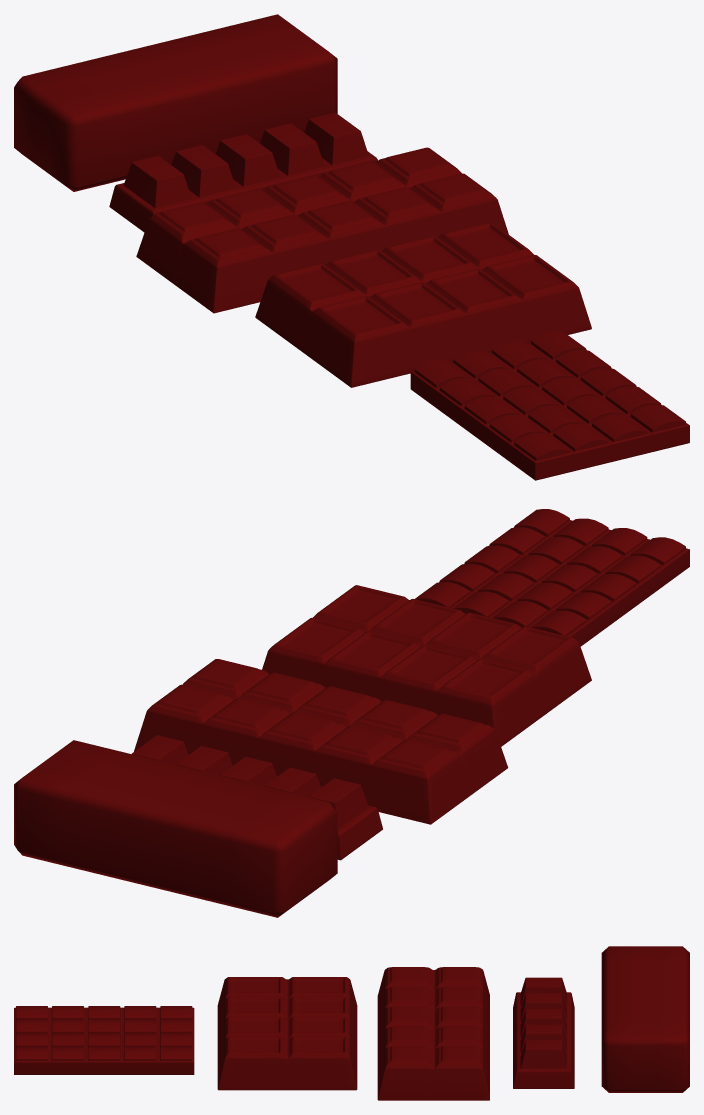
The model's file is nmodel_08_46.fbx.
3 views of the same model, one above another, from view 1: azimuth 30°, elevation 25°; view 2: azimuth 150°, elevation 25°; view 3: azimuth 270°, elevation 25° (orthographic). The views are drawn at different scales.
Visible parts, largest first — view 1: nmodel_08_46_chocolate; view 2: nmodel_08_46_chocolate; view 3: nmodel_08_46_chocolate.
Boxes of the visible parts, x1=… form: nmodel_08_46_chocolate: x1=14, y1=14, x2=689, y2=480; nmodel_08_46_chocolate: x1=14, y1=509, x2=689, y2=917; nmodel_08_46_chocolate: x1=14, y1=946, x2=689, y2=1100.
Size of the model in its own units: 9.74 by 2.45 by 26.49.
